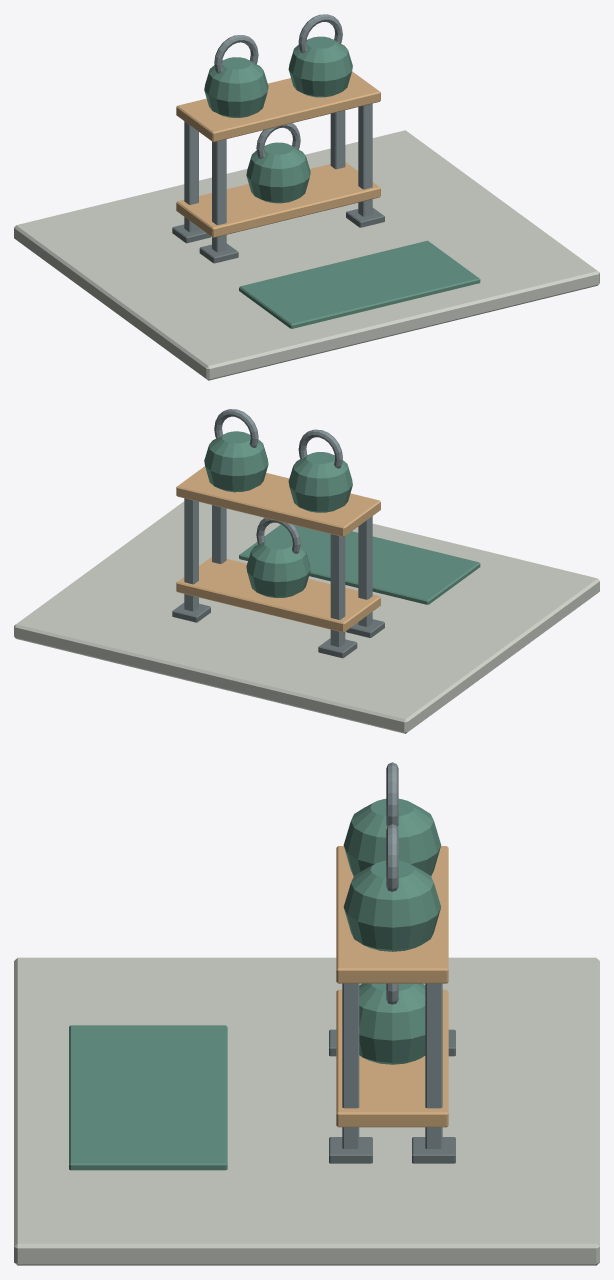
3 renders of one model, top to bottom at view 1: azimuth 30°, elevation 25°; view 2: azimuth 150°, elevation 25°; view 3: azimuth 270°, elevation 25°, orthographic. The views are drawn at different scales.
Parts seen in each view (by area): view 1: fitness-exercise-corner-01; view 2: fitness-exercise-corner-01; view 3: fitness-exercise-corner-01.
Boxes of the visible parts, <box> form: fitness-exercise-corner-01: <box>14,14,599,380</box>; fitness-exercise-corner-01: <box>14,409,599,733</box>; fitness-exercise-corner-01: <box>14,762,599,1265</box>.
Size of the model in its own units: 2.8 by 1.47 by 2.4.
